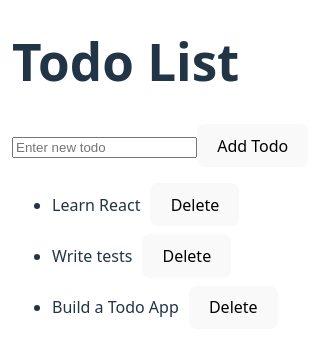
it: TodoList Component › adds a new todo
Type "New Todo Item" into the field with placeholder "Enter new todo". click: (104, 147)
box: left=12, top=137, right=197, bottom=158
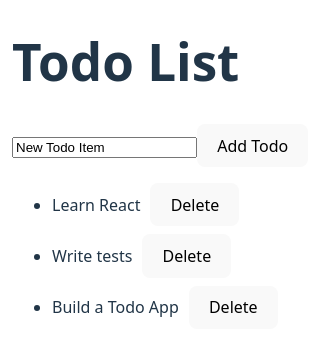
Click the button "Add Todo". click: (253, 146)
box: left=197, top=124, right=308, bottom=167
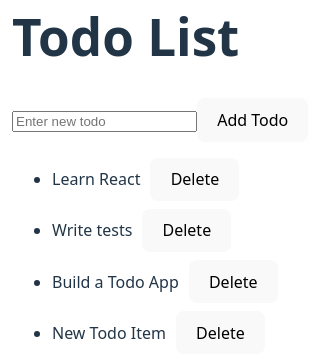
Expected: the text "New Todo Item" is shown, left=52, top=322, right=166, bottom=344
